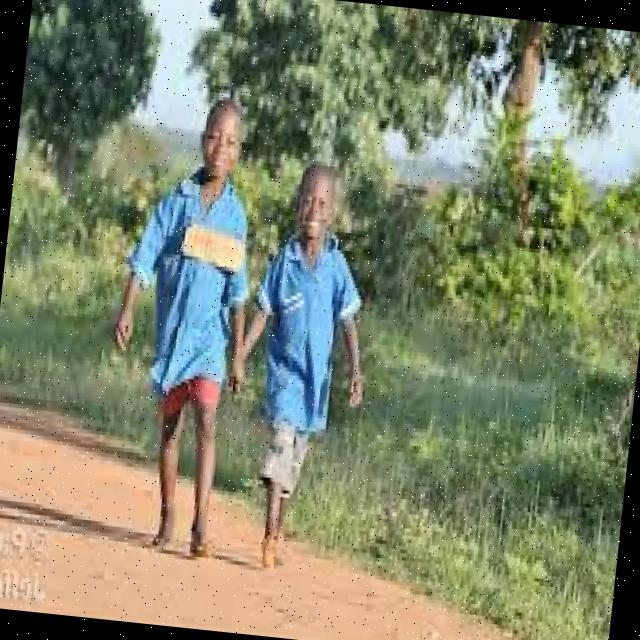Person: (91, 91, 269, 558), (224, 157, 385, 574)
